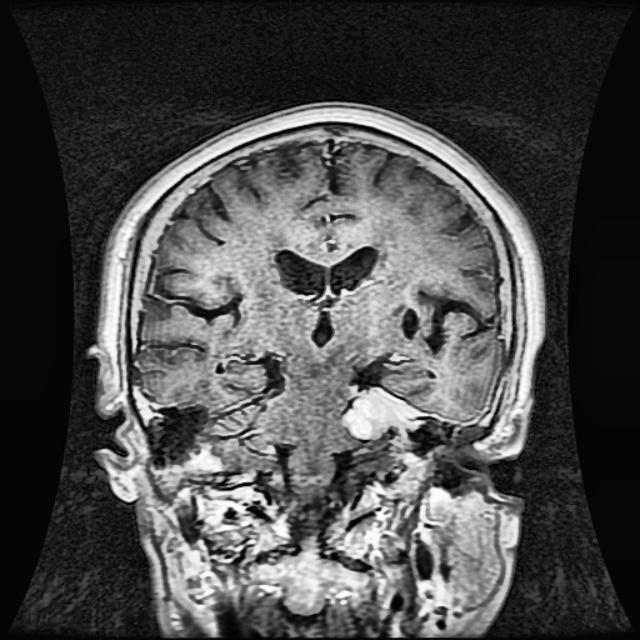Glioma: (342, 387, 427, 438)
